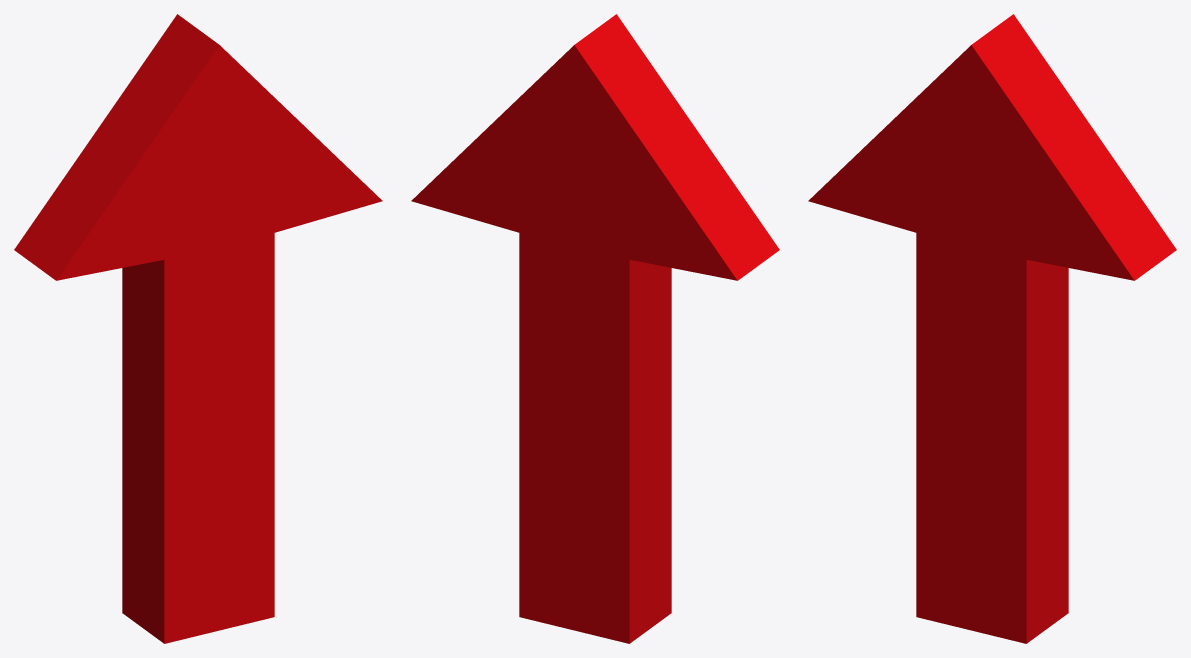
File: arrow.fbx
3 renders of one model, left to right at view 1: azimuth 30°, elevation 25°; view 2: azimuth 150°, elevation 25°; view 3: azimuth 330°, elevation 25°, orthographic.
Visible parts, largest first — view 1: Cube; view 2: Cube; view 3: Cube.
Part boxes in pixels (x1,y1,x2,y2): Cube: (14,14,382,643); Cube: (411,14,779,643); Cube: (808,14,1176,643).
Bounding box in the file's own units: 593 × 1016 × 133.
